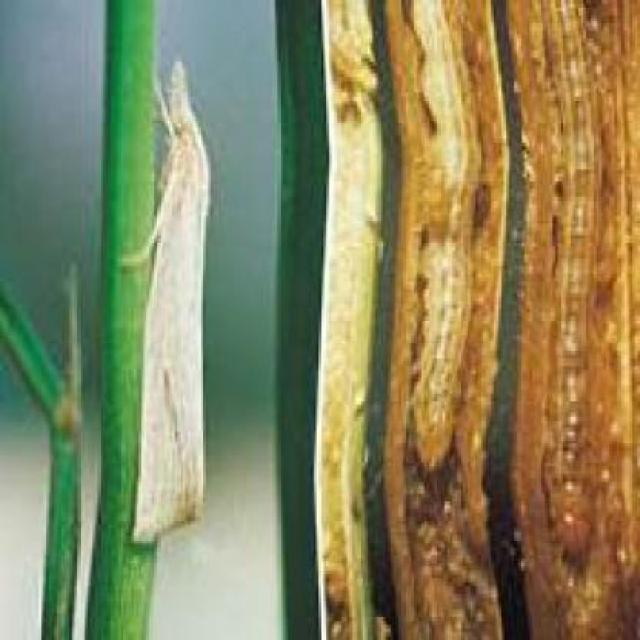stem-borer: (118, 52, 213, 554)
